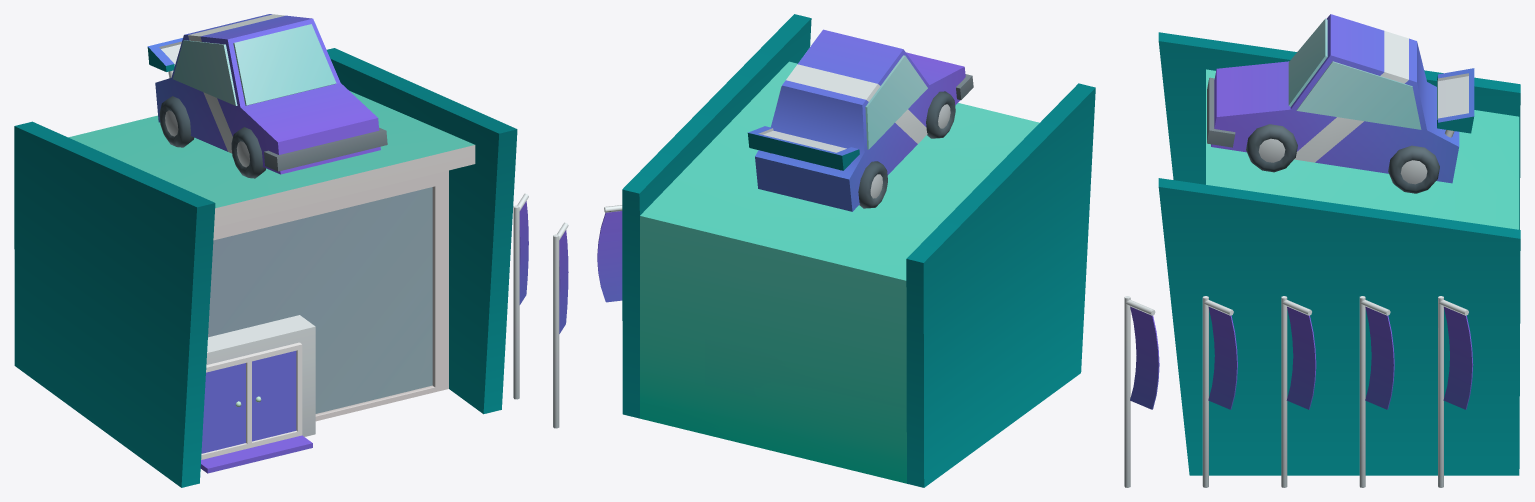
Rendered from Asset_CarRaceBuidling.glb.
3 views of the same model, side by side, from view 1: azimuth 30°, elevation 25°; view 2: azimuth 150°, elevation 25°; view 3: azimuth 270°, elevation 25° (orthographic). The views are drawn at different scales.
Parts seen in each view (by area): view 1: Mesh.009; view 2: Mesh.009; view 3: Mesh.009.
Boxes of the visible parts, x1,y1,x2,y2 form: Mesh.009: [14, 14, 568, 487]; Mesh.009: [597, 14, 1095, 487]; Mesh.009: [1124, 14, 1520, 487].
Size of what is drawn, in the model's own units: 8.11 by 7.68 by 7.58.
Materials: 1 (1 with a texture image).
